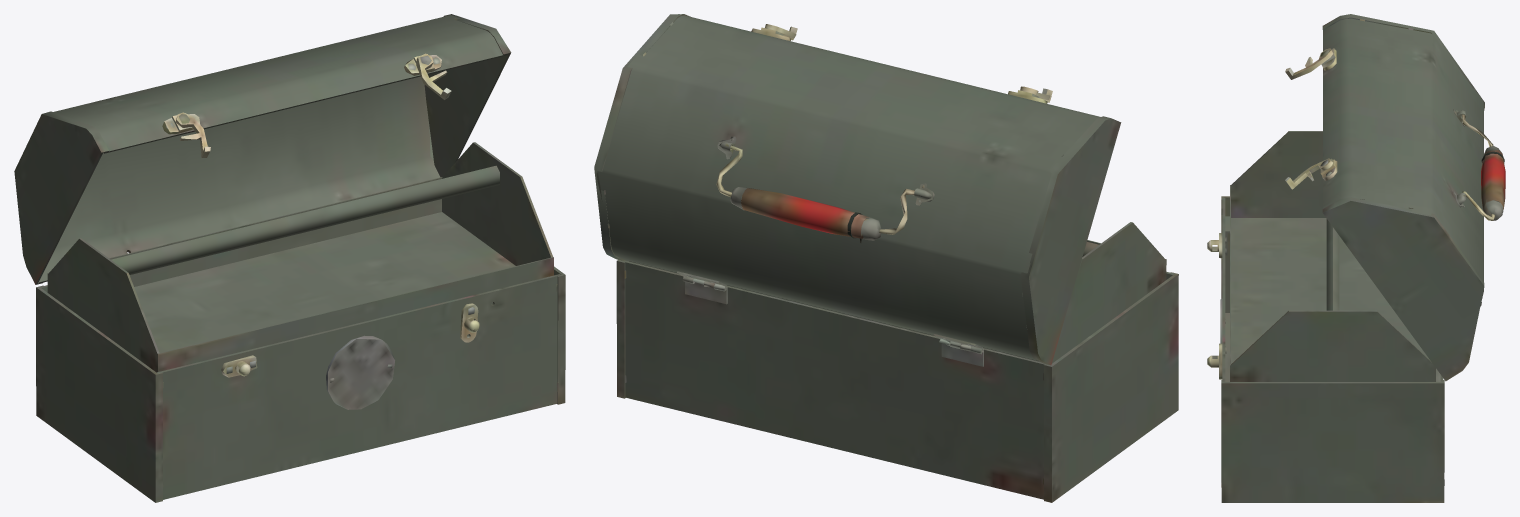
Rendered from metal_toolbox.glb.
3 renders of one model, left to right at view 1: azimuth 30°, elevation 25°; view 2: azimuth 150°, elevation 25°; view 3: azimuth 270°, elevation 25°, orthographic. The views are drawn at different scales.
Visible parts, largest first — view 1: metal_toolbox; view 2: metal_toolbox; view 3: metal_toolbox.
Boxes of the visible parts, x1=… form: metal_toolbox: x1=14, y1=14, x2=565, y2=502; metal_toolbox: x1=594, y1=14, x2=1178, y2=502; metal_toolbox: x1=1207, y1=14, x2=1505, y2=502.
Size of the model in its own units: 0.4 by 0.3046 by 0.2702.
Materials: 1 (1 with a texture image).
